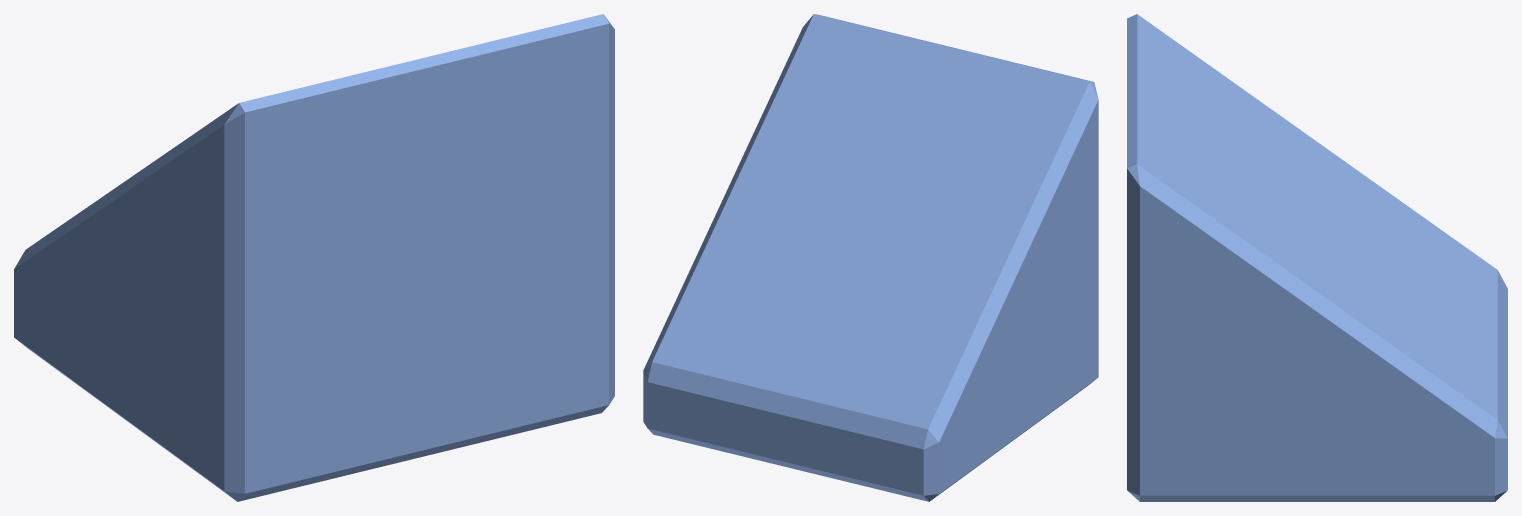
3 renders of one model, left to right at view 1: azimuth 30°, elevation 25°; view 2: azimuth 150°, elevation 25°; view 3: azimuth 270°, elevation 25°, orthographic. The views are drawn at different scales.
Parts seen in each view (by area): view 1: Cube.015; view 2: Cube.015; view 3: Cube.015.
Part boxes in pixels (<box>): Cube.015: <box>14,14,614,501</box>; Cube.015: <box>643,14,1098,501</box>; Cube.015: <box>1127,14,1507,501</box>.
Bounding box in the file's own units: 200 × 196 × 200.
